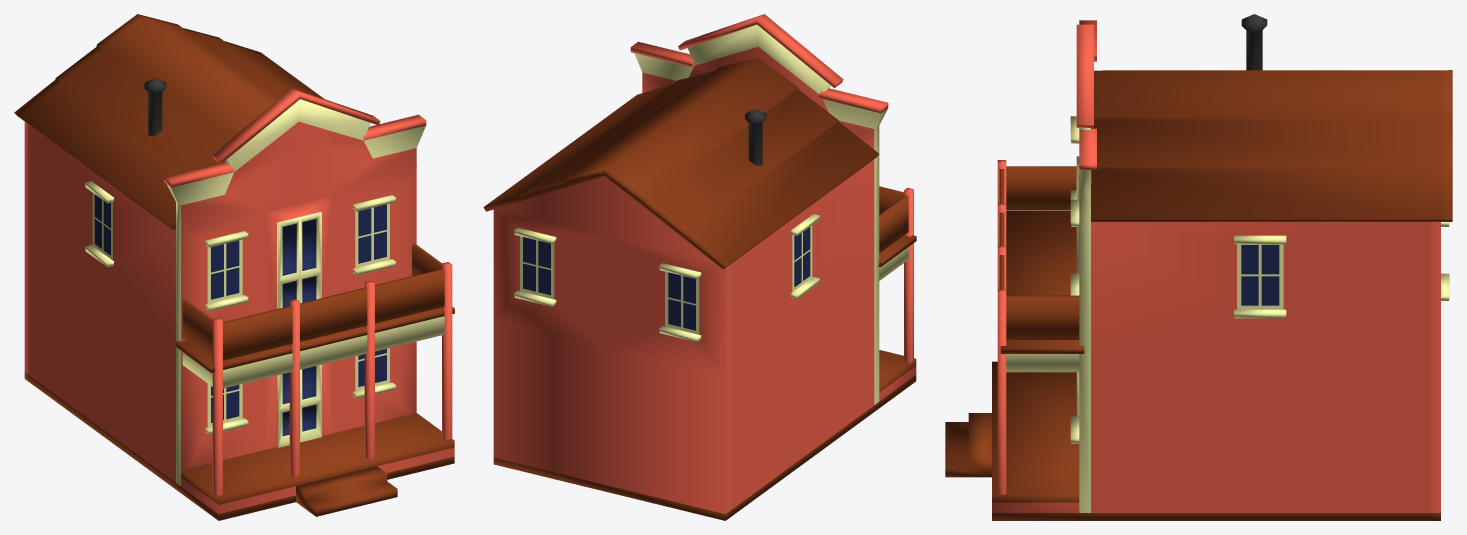
Rendered from Western_Hotel.fbx.
3 renders of one model, left to right at view 1: azimuth 30°, elevation 25°; view 2: azimuth 150°, elevation 25°; view 3: azimuth 270°, elevation 25°, orthographic. The views are drawn at different scales.
Parts seen in each view (by area): view 1: WesternBuilding_Hotel_Salmon; view 2: WesternBuilding_Hotel_Salmon; view 3: WesternBuilding_Hotel_Salmon.
Boxes of the visible parts, bbox=[...] form: WesternBuilding_Hotel_Salmon: bbox=[14, 14, 454, 520]; WesternBuilding_Hotel_Salmon: bbox=[483, 14, 916, 520]; WesternBuilding_Hotel_Salmon: bbox=[945, 14, 1452, 520].
Size of the model in its own units: 583 by 813 by 870.
1 material, 1 textured.
